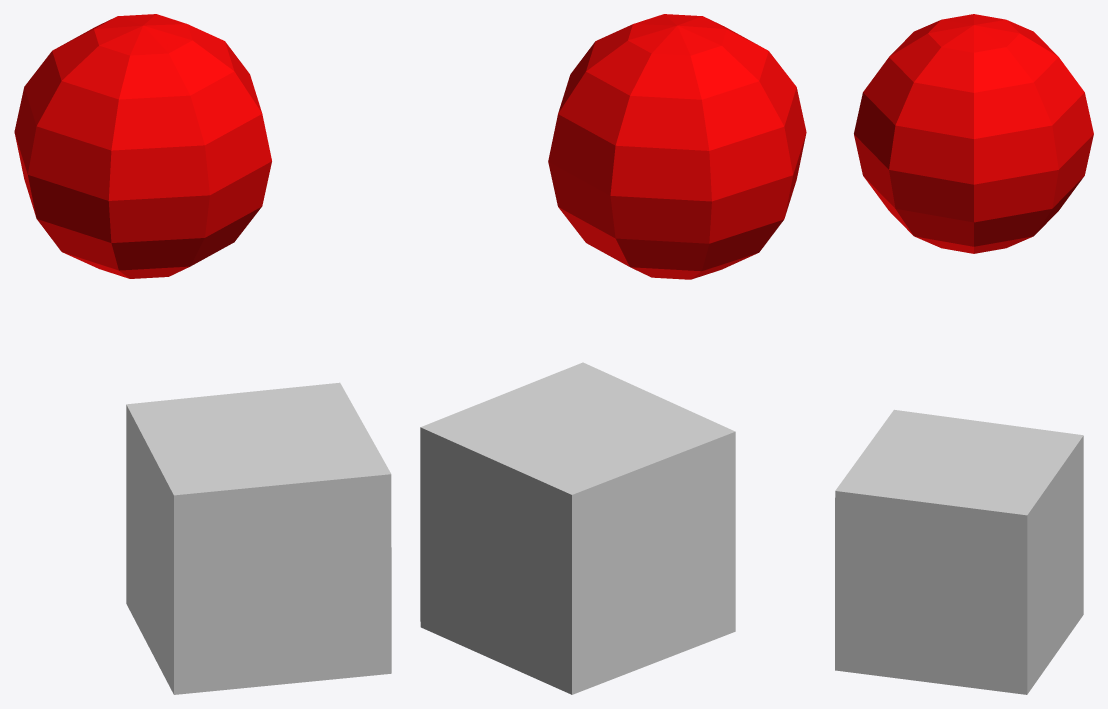
File: updated_ground.obj
3 renders of one model, left to right at view 1: azimuth 30°, elevation 25°; view 2: azimuth 150°, elevation 25°; view 3: azimuth 270°, elevation 25°, orthographic. The views are drawn at different scales.
Visible parts, largest first — view 1: cube1, sphere1; view 2: cube1, sphere1; view 3: cube1, sphere1.
Boxes of the visible parts, bbox=[...] form: cube1: bbox=[126, 382, 391, 694]; sphere1: bbox=[14, 14, 271, 278]; cube1: bbox=[420, 362, 735, 694]; sphere1: bbox=[548, 14, 806, 279]; cube1: bbox=[835, 409, 1083, 694]; sphere1: bbox=[854, 14, 1093, 253].
Size of what is drawn, in the model's own units: 0.7402 by 1.31 by 0.5391.
